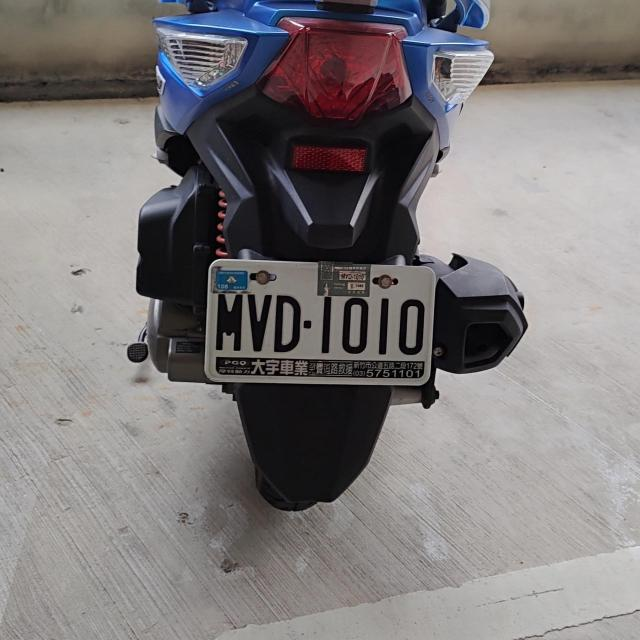W: (200, 253, 435, 384)
